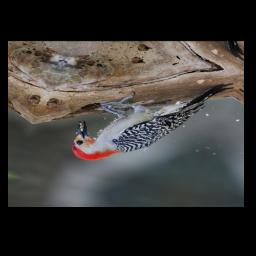Woodpecker: (64, 61, 233, 178)
